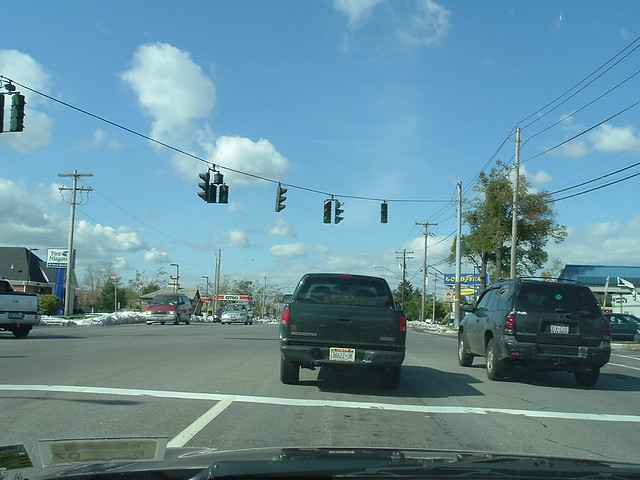car: (1, 438, 639, 480), (458, 278, 612, 387), (146, 294, 192, 324), (222, 303, 255, 325)
